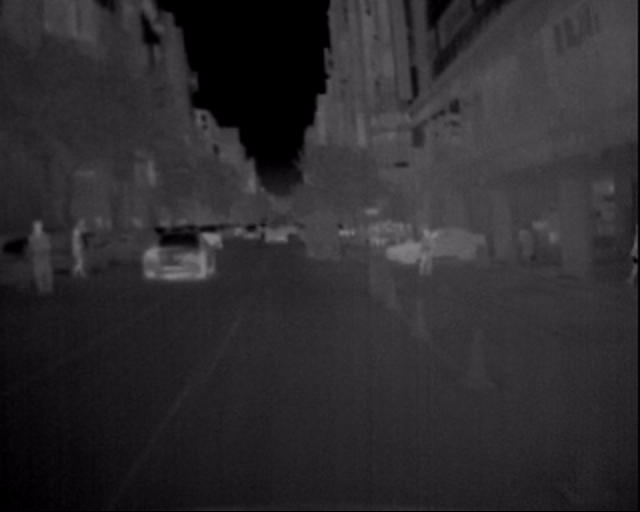person: (8, 214, 60, 312), (57, 221, 95, 284), (412, 221, 444, 281)
